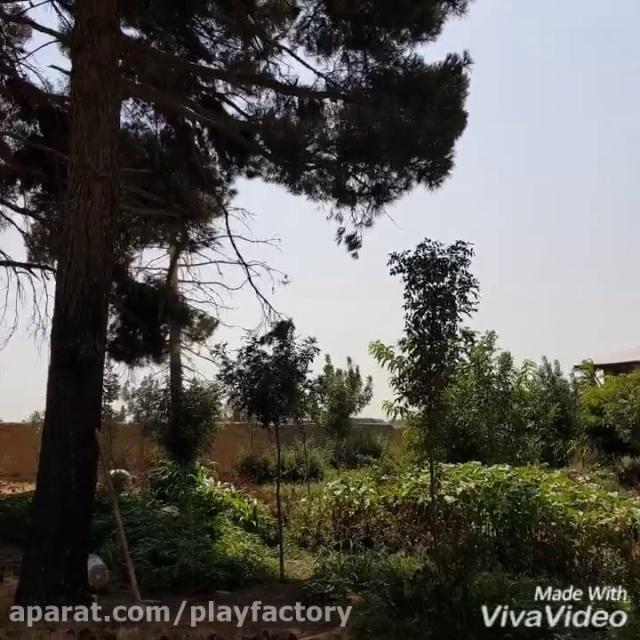drone: (275, 275, 293, 287)
